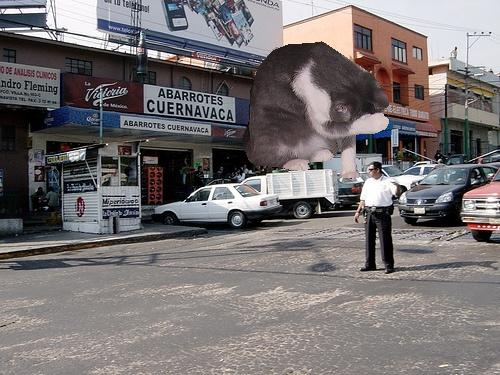tampered: (244, 42, 389, 178)
